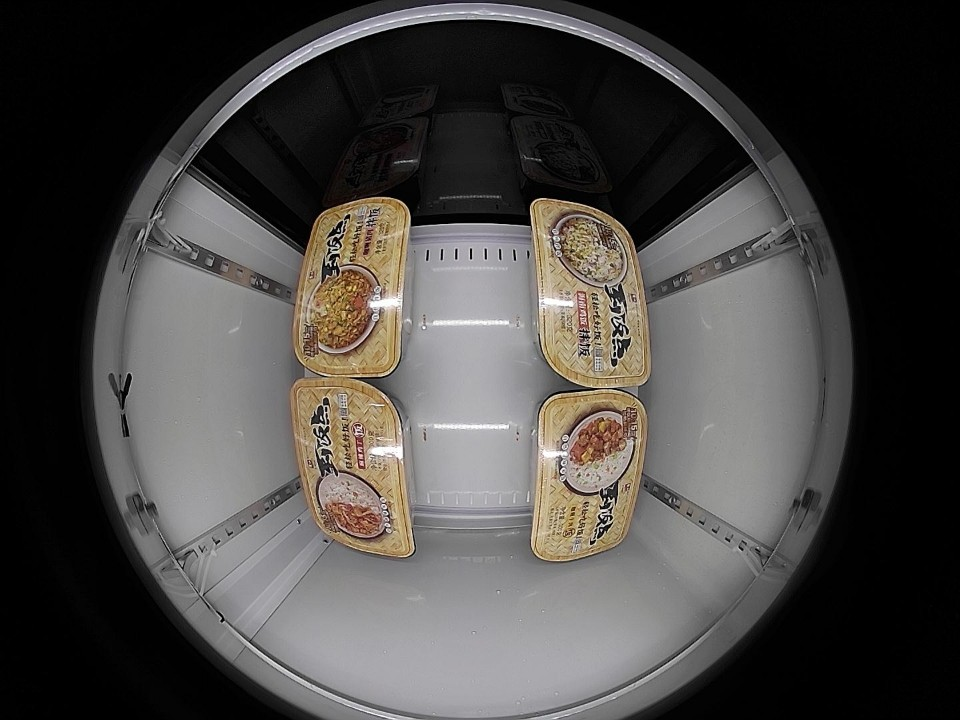daofandian1: (531, 197, 651, 390)
daofandian2: (530, 388, 647, 563)
daofandian3: (293, 196, 412, 380)
daofandian4: (291, 376, 414, 559)
